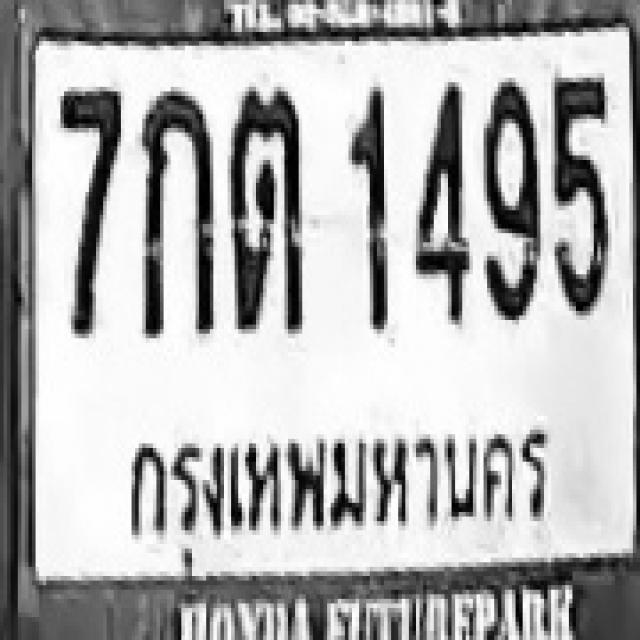1: (347, 82, 389, 334)
10GorGai: (139, 89, 213, 336)
30TorTao: (228, 87, 302, 329)
4: (412, 78, 470, 324)
5: (551, 73, 608, 316)
7: (57, 87, 121, 338)
9: (480, 78, 540, 320)
Bangkok: (118, 414, 567, 544)
